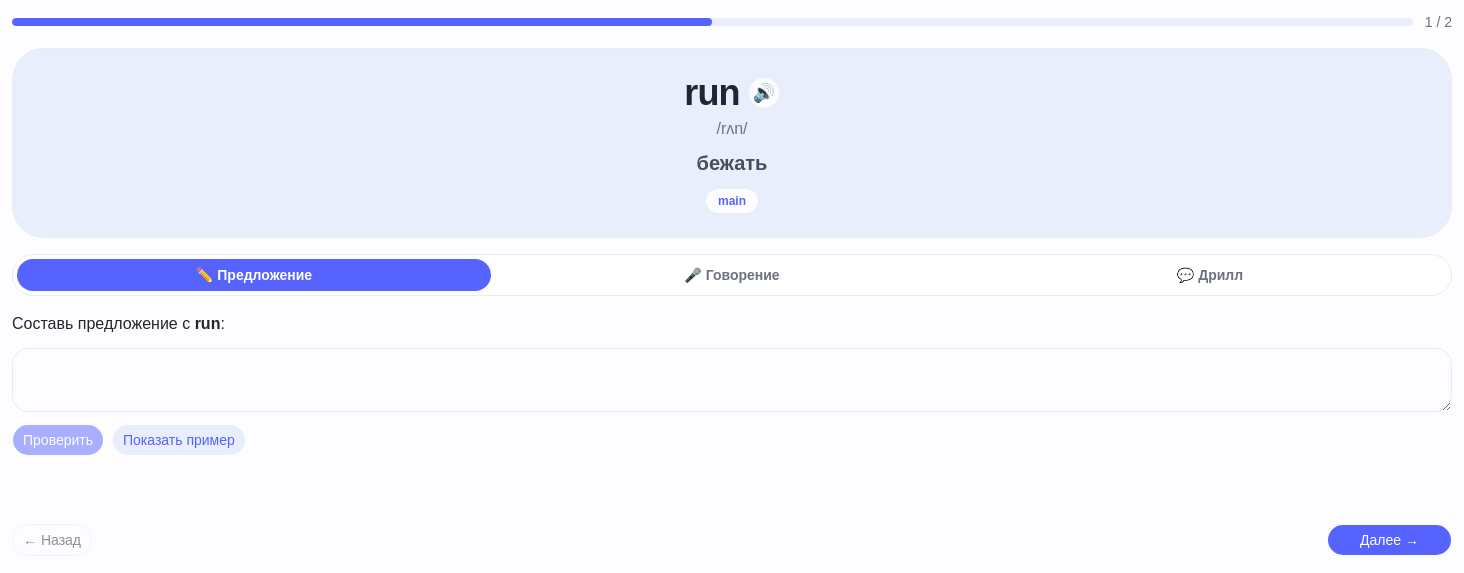
Test: PracticeSession › clears the suggested example when advancing to the next word
Expected: the 1st text "run" is shown, [684,73,740,113]
What coordinates should you click on to do the following:
click the button "Показать пример"
I would click on:
 (179, 440)
Its box is [112,424,246,456].
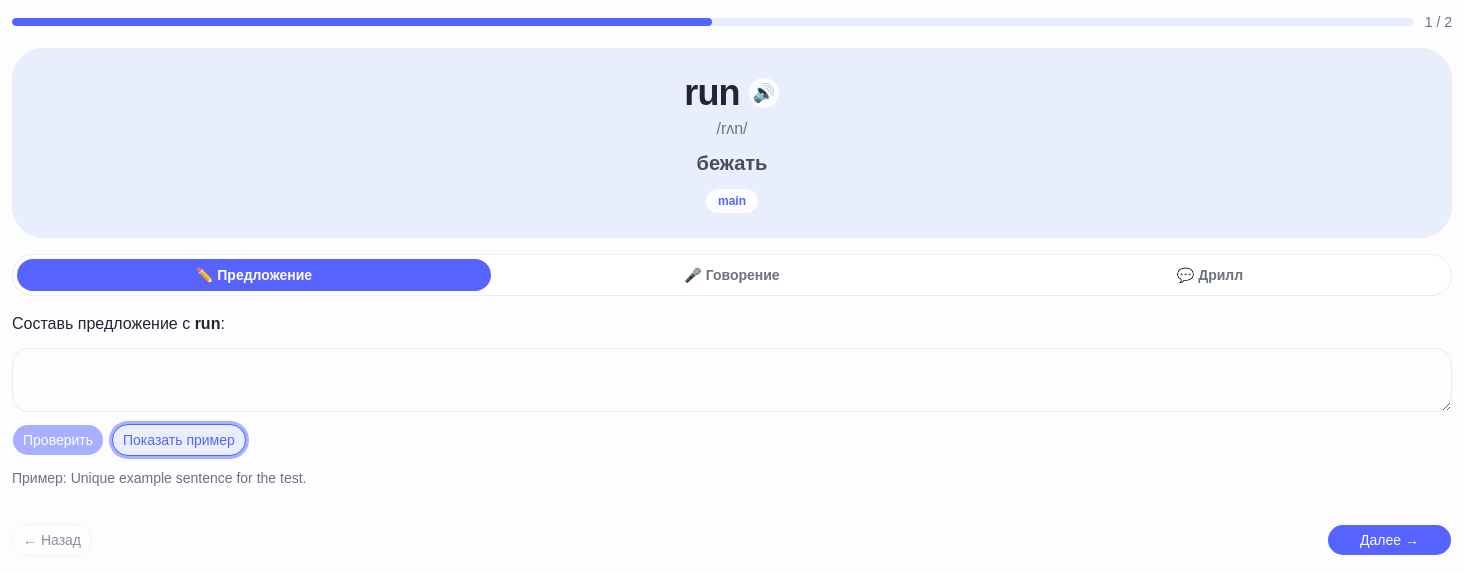
Expected: the text "Пример: Unique example sentence for the test." is shown, [12,468,306,488]
What coordinates should you click on to do the following:
click the button "Далее →"
I would click on:
 (1390, 540)
Its box is [1327,524,1452,556].
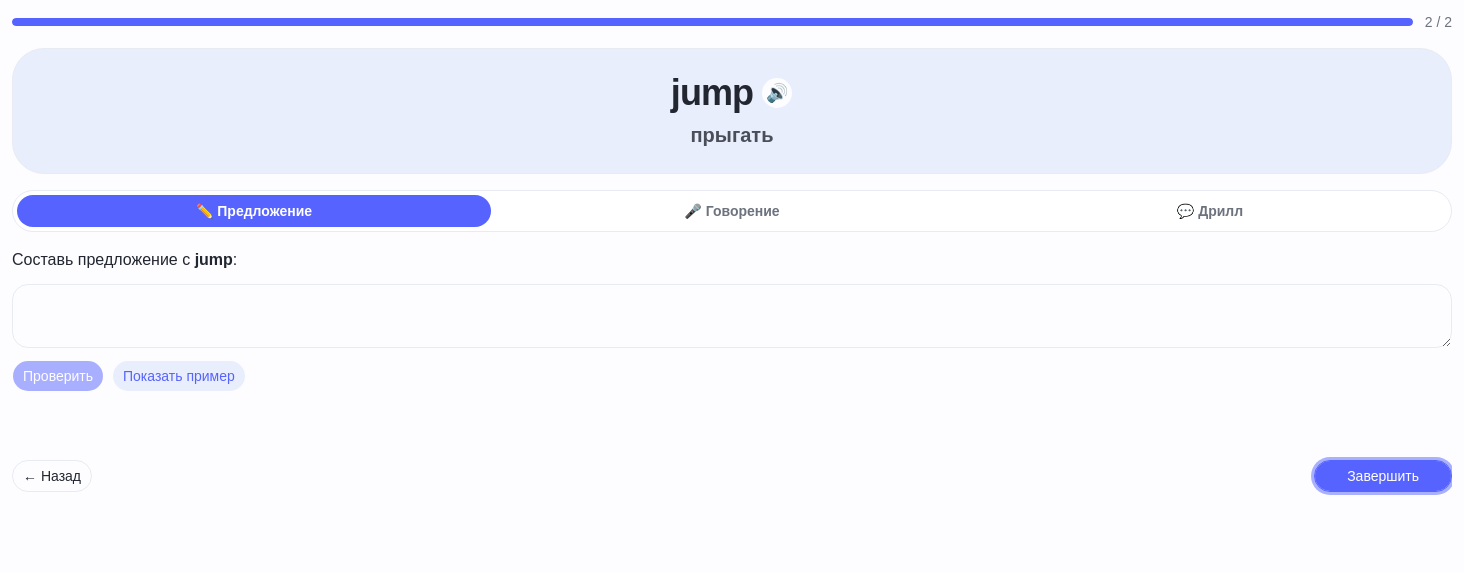
Expected: the 1st text "jump" is shown, [671,73,753,113]
Expected: the text "Unique example sentence" is gone
